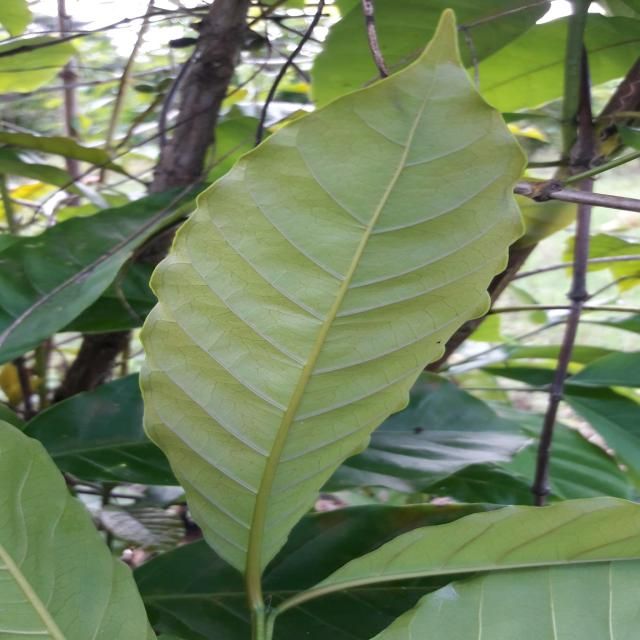Sanas: (129, 8, 530, 622)
